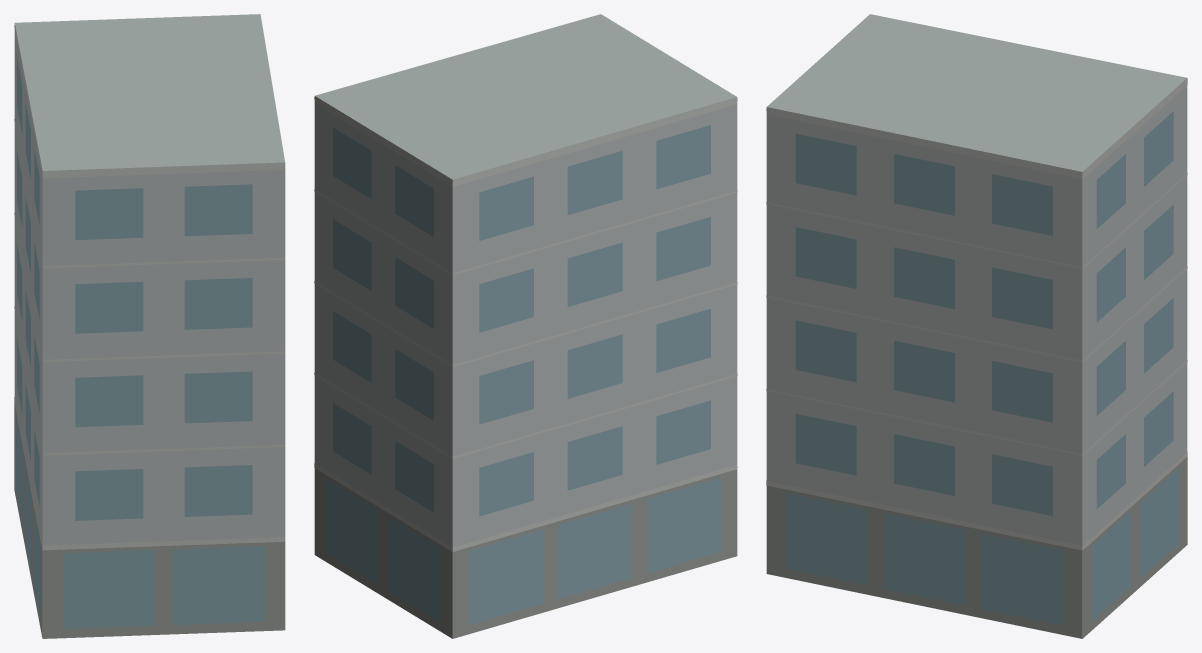
File: survey-upis-32727843.glb
The picture shows the model from 3 angles, left to right: view 1: azimuth 30°, elevation 25°; view 2: azimuth 150°, elevation 25°; view 3: azimuth 270°, elevation 25°; orthographic projection.
Visible parts, largest first — view 1: survey-upis-32727843.tmp; view 2: survey-upis-32727843.tmp; view 3: survey-upis-32727843.tmp.
Boxes of the visible parts, bbox=[...] form: survey-upis-32727843.tmp: bbox=[14, 14, 285, 638]; survey-upis-32727843.tmp: bbox=[314, 14, 737, 638]; survey-upis-32727843.tmp: bbox=[766, 14, 1187, 638].
Bounding box in the file's own units: 11.09 × 15.25 × 12.48.
